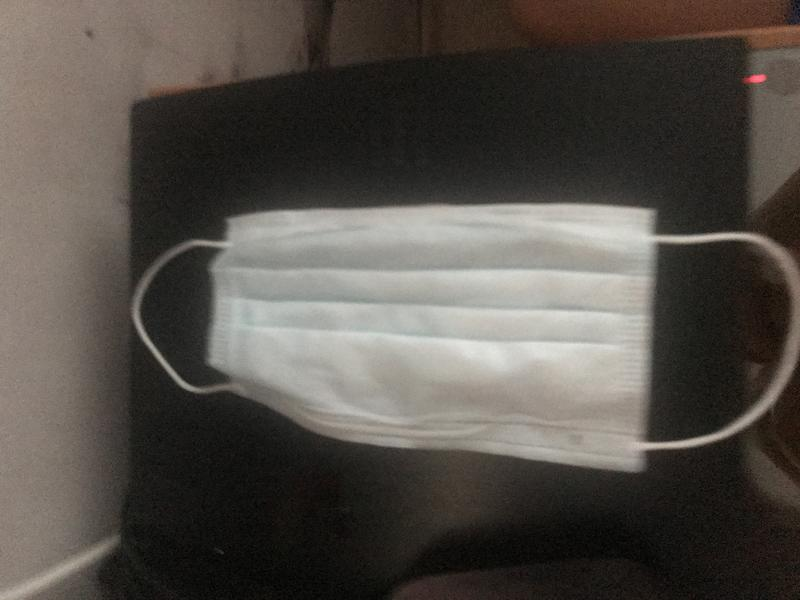medical_mask: (132, 200, 800, 474)
